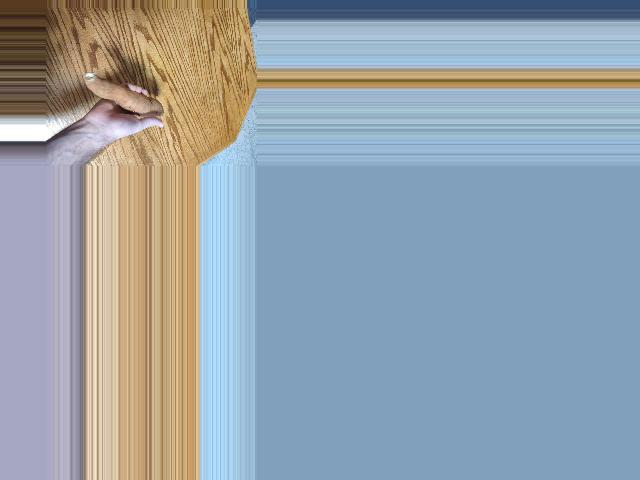sweet_potato: (82, 73, 167, 114)
